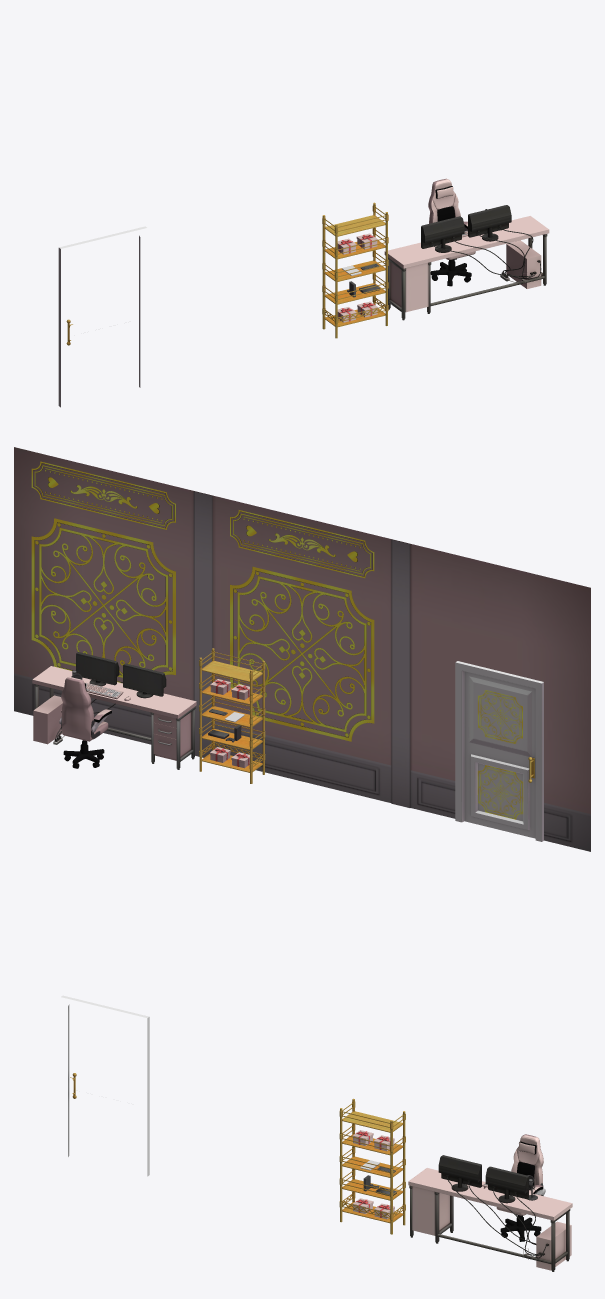
Rendered from CuStRoom02_Front.glb.
The picture shows the model from 3 angles, top to bottom: view 1: azimuth 30°, elevation 25°; view 2: azimuth 150°, elevation 25°; view 3: azimuth 330°, elevation 25°; orthographic projection.
Visible parts, largest first — view 1: Z_pcDesk, Z_Shelf02, Z_pcUnit, Z_pcChair, Z_Door; view 2: Z_Room_01.001, Z_Emblem01.001, Z_Door, Z_pcDesk, Z_Shelf02, Z_pcUnit, Z_pcChair; view 3: Z_pcDesk, Z_Shelf02, Z_pcUnit, Z_pcChair, Z_Door.
Part boxes in pixels (x1,y1,x2,y2): Z_pcDesk: (384, 216, 549, 320); Z_Shelf02: (322, 202, 388, 338); Z_pcUnit: (421, 205, 541, 288); Z_pcChair: (428, 178, 475, 286); Z_Door: (58, 226, 146, 407); Z_Room_01.001: (14, 447, 590, 851); Z_Emblem01.001: (31, 461, 374, 741); Z_Door: (455, 661, 543, 841); Z_pcDesk: (32, 666, 196, 769); Z_Shelf02: (199, 648, 265, 783); Z_pcUnit: (33, 652, 166, 744); Z_pcChair: (59, 676, 111, 768); Z_pcDesk: (408, 1168, 572, 1271); Z_Shelf02: (339, 1098, 405, 1234); Z_pcUnit: (438, 1155, 571, 1270); Z_pcChair: (496, 1134, 545, 1241); Z_Door: (61, 995, 149, 1176).
Bounding box in the file's own units: 8 × 3.5 × 1.11.
Materials: 7 (7 with a texture image).
